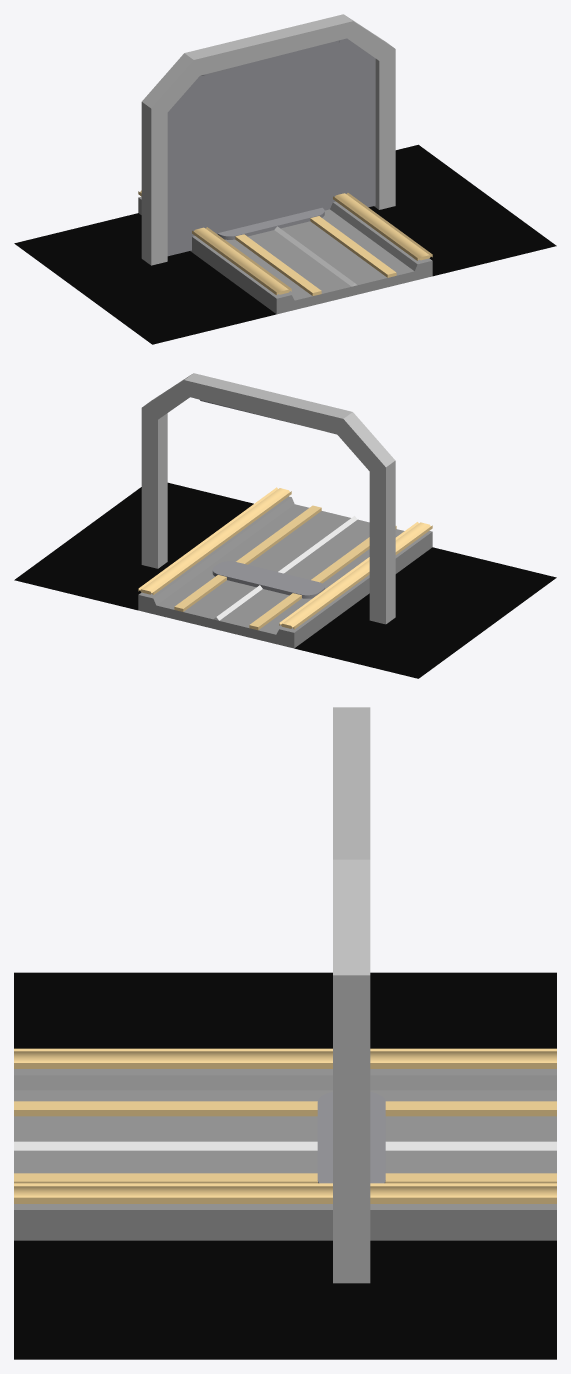
Rendered from station__message--wens.glb.
3 views of the same model, one above another, from view 1: azimuth 30°, elevation 25°; view 2: azimuth 150°, elevation 25°; view 3: azimuth 270°, elevation 25° (orthographic). The views are drawn at different scales.
Parts seen in each view (by area): view 1: lottie_front, _basefloor, Boolean (×2), road, road__top--left, road__top--right, road__rail--left, road__rail--right, road__rail--middle, rain__base; view 2: _basefloor, Boolean (×2), road, road__top--right, road__top--left, road__rail--right, road__rail--left, road__rail--middle; view 3: _basefloor, road, Boolean (×2), road__top--left, road__top--right, road__rail--left, road__rail--right, road__rail--middle.
Boxes of the visible parts, x1=… form: lottie_front: x1=167, y1=38, x2=375, y2=256; _basefloor: x1=14, y1=144, x2=556, y2=344; Boolean (×2): x1=141, y1=14, x2=395, y2=265; road: x1=138, y1=196, x2=432, y2=314; road__top--left: x1=138, y1=190, x2=291, y2=295; road__top--right: x1=333, y1=193, x2=432, y2=260; road__rail--left: x1=235, y1=234, x2=321, y2=295; road__rail--right: x1=310, y1=216, x2=396, y2=277; road__rail--middle: x1=274, y1=226, x2=357, y2=286; rain__base: x1=201, y1=40, x2=339, y2=75; _basefloor: x1=14, y1=482, x2=556, y2=678; Boolean (×2): x1=141, y1=373, x2=395, y2=624; road: x1=138, y1=496, x2=432, y2=648; road__top--right: x1=138, y1=487, x2=291, y2=594; road__top--left: x1=279, y1=522, x2=432, y2=629; road__rail--right: x1=174, y1=505, x2=321, y2=611; road__rail--left: x1=249, y1=526, x2=396, y2=630; road__rail--middle: x1=213, y1=516, x2=357, y2=620; _basefloor: x1=14, y1=972, x2=556, y2=1359; road: x1=14, y1=1069, x2=556, y2=1240; Boolean (×2): x1=317, y1=707, x2=385, y2=1283; road__top--left: x1=14, y1=1048, x2=556, y2=1068; road__top--right: x1=14, y1=1183, x2=556, y2=1203; road__rail--left: x1=14, y1=1101, x2=556, y2=1116; road__rail--right: x1=14, y1=1173, x2=556, y2=1183; road__rail--middle: x1=14, y1=1141, x2=556, y2=1150.
Size of the model in its own units: 10.8 by 5.08 by 6.4.
